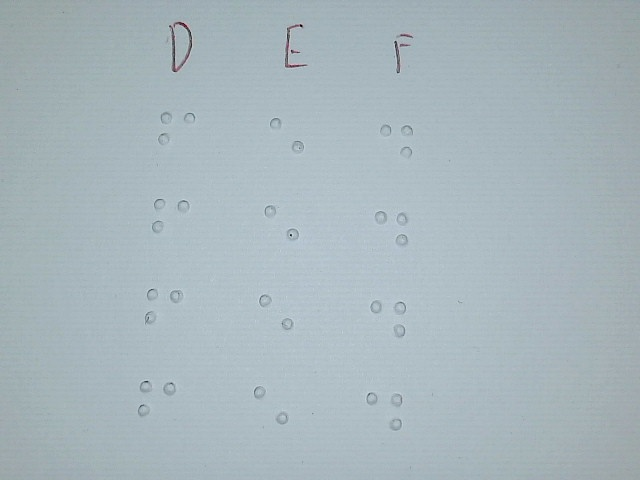D: (377, 109, 416, 179), (372, 197, 411, 267), (369, 286, 408, 356), (365, 378, 404, 448)
E: (267, 102, 308, 172), (262, 190, 303, 260), (256, 279, 297, 349), (251, 371, 292, 441)
F: (157, 97, 198, 167), (151, 185, 192, 255), (144, 275, 185, 345), (137, 366, 178, 436)
